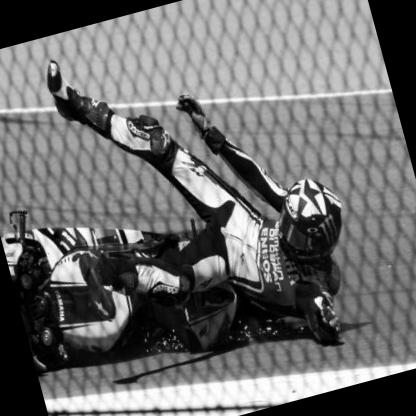moto: (1, 163, 247, 400)
